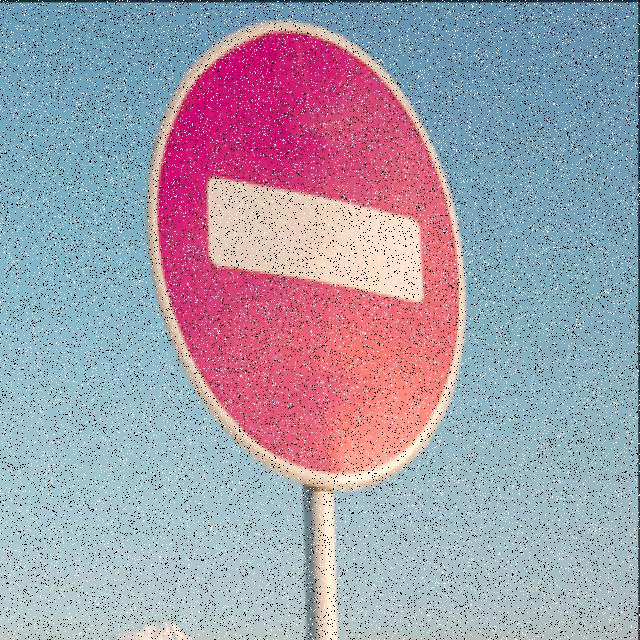no entry: (148, 21, 468, 492)
